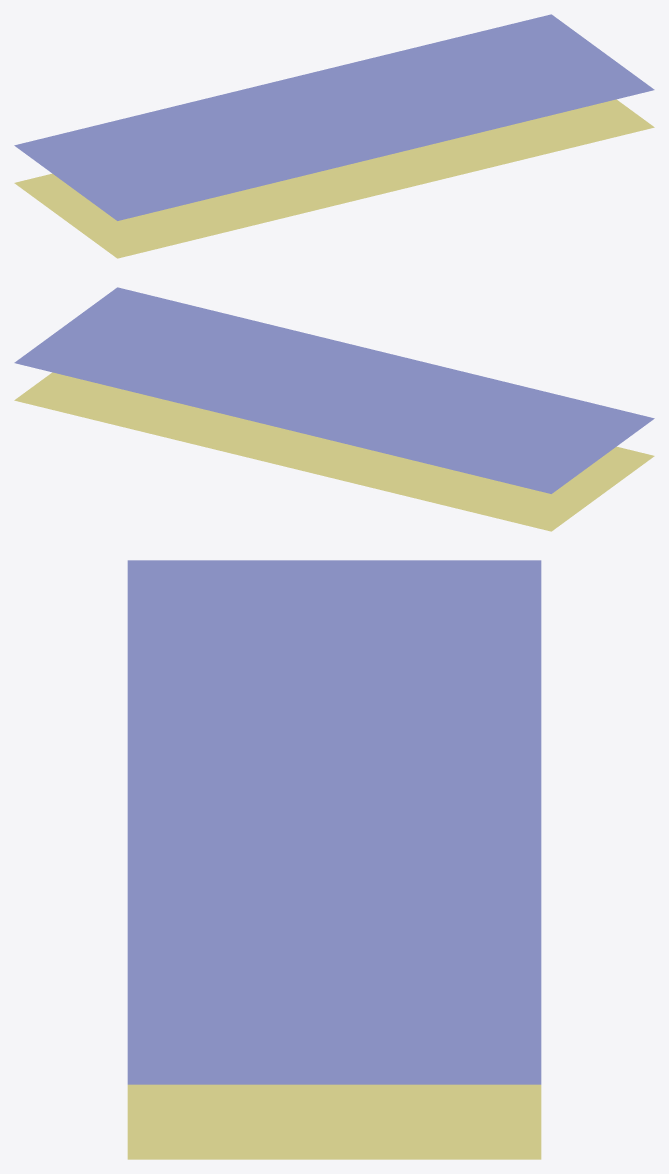
The model's file is In_3x1_Floor.FBX.
The picture shows the model from 3 angles, top to bottom: view 1: azimuth 30°, elevation 25°; view 2: azimuth 150°, elevation 25°; view 3: azimuth 270°, elevation 25°; orthographic projection. The views are drawn at different scales.
Visible parts, largest first — view 1: In_3x1_Floor; view 2: In_3x1_Floor; view 3: In_3x1_Floor.
Boxes of the visible parts, left/top/right/bottom form: In_3x1_Floor: left=14, top=14, right=654, bottom=258; In_3x1_Floor: left=14, top=287, right=654, bottom=531; In_3x1_Floor: left=127, top=560, right=541, bottom=1159.
Size of the model in its own units: 300 by 20 by 100.
